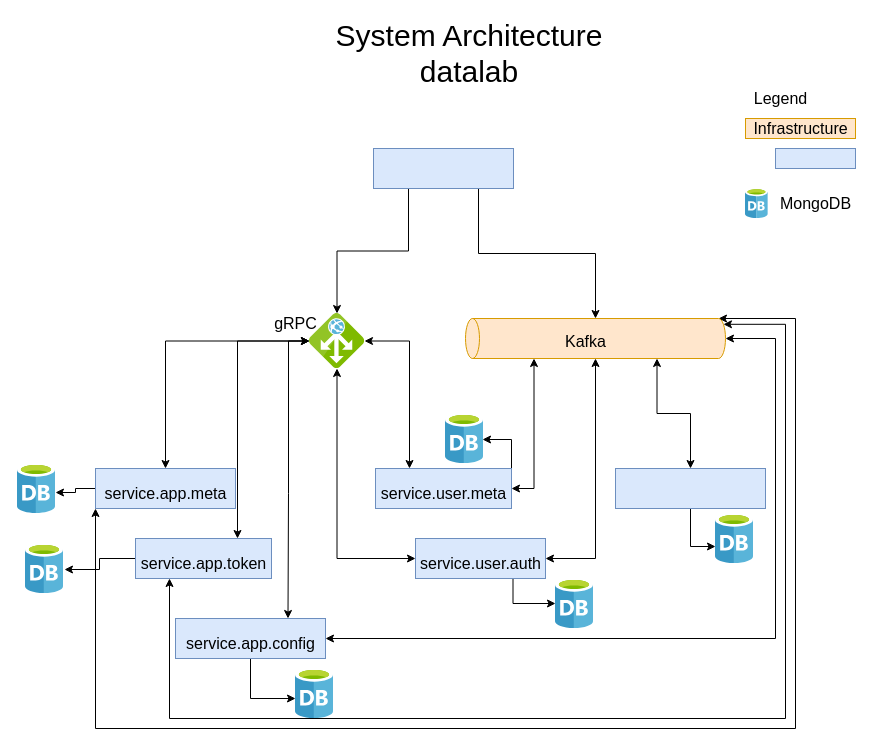
Some shapes in this 877 by 755 pixel diagram are drawn without their labels. The centre of each missing label's shape, as x and y in pixels:
"service.api.bff" goes at (x=443, y=168).
"service.notification" goes at (x=690, y=488).
"Services" goes at (x=815, y=158).
